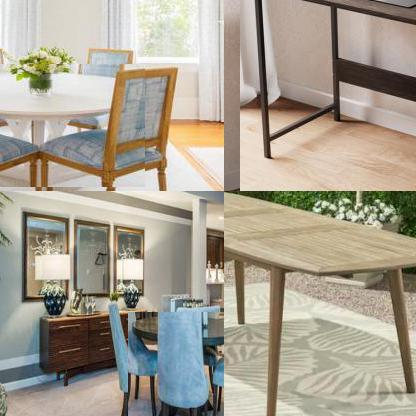table: (224, 191, 415, 415), (239, 0, 415, 190), (0, 64, 145, 188), (127, 312, 223, 415)
